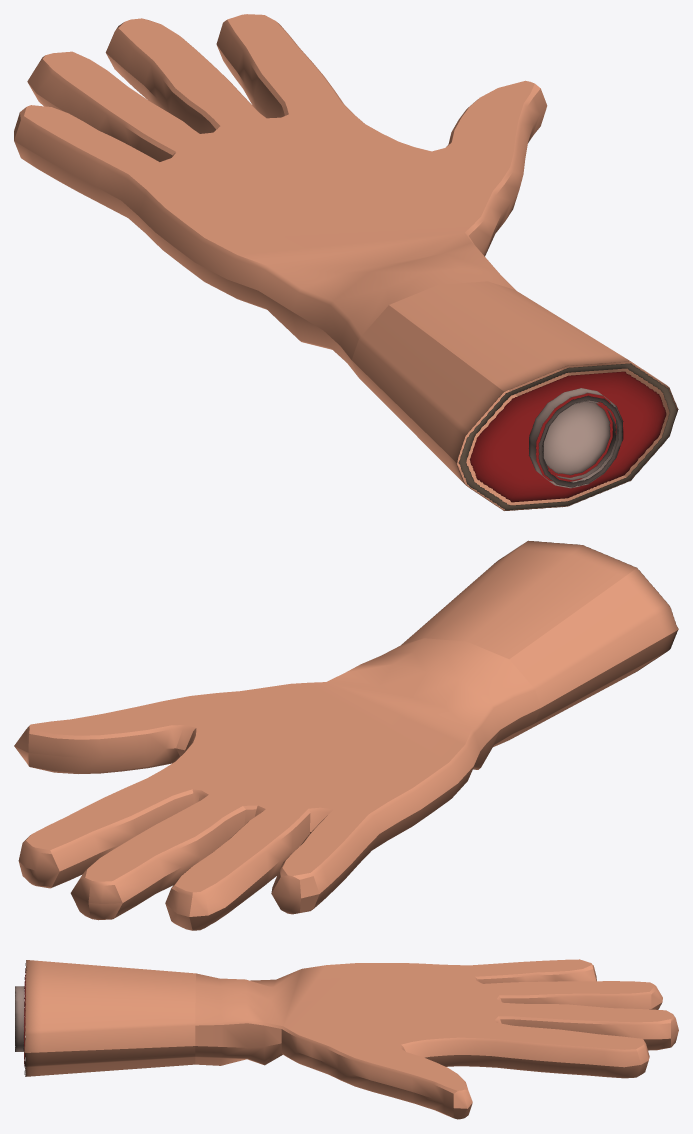
File: hand.fbx
3 renders of one model, top to bottom at view 1: azimuth 30°, elevation 25°; view 2: azimuth 150°, elevation 25°; view 3: azimuth 270°, elevation 25°, orthographic. The views are drawn at different scales.
Parts seen in each view (by area): view 1: Cylinder.001; view 2: Cylinder.001; view 3: Cylinder.001.
Part boxes in pixels (<box>): Cylinder.001: <box>14,14,678,510</box>; Cylinder.001: <box>14,540,678,930</box>; Cylinder.001: <box>15,959,678,1119</box>.
Size of the model in its own units: 72.14 by 22.18 by 147.
